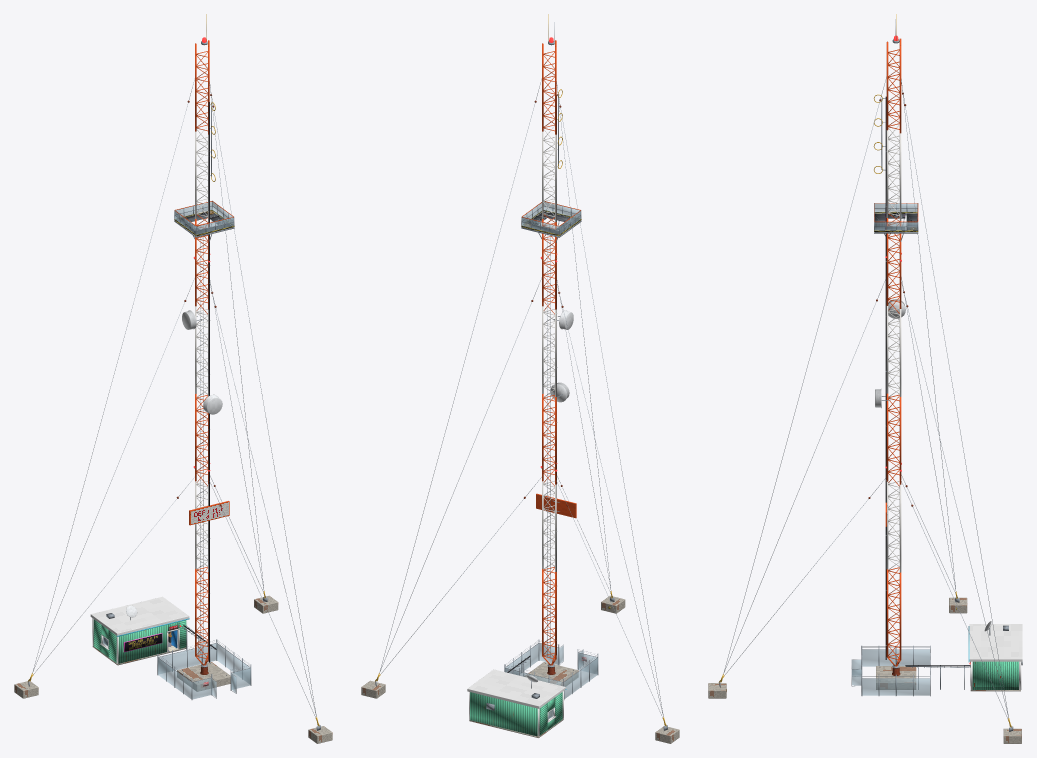
The model's file is p_deadair.glb.
The picture shows the model from 3 angles, left to right: view 1: azimuth 30°, elevation 25°; view 2: azimuth 150°, elevation 25°; view 3: azimuth 270°, elevation 25°; orthographic projection.
Visible parts, largest first — view 1: p_deadair_lod0; view 2: p_deadair_lod0; view 3: p_deadair_lod0.
Part boxes in pixels (<box>): p_deadair_lod0: <box>14,14,332,743</box>; p_deadair_lod0: <box>361,14,679,743</box>; p_deadair_lod0: <box>708,14,1022,743</box>.
Size of what is drawn, in the model's own units: 32.5 by 73.2 by 31.18.
Materials: 3 (1 with a texture image).
